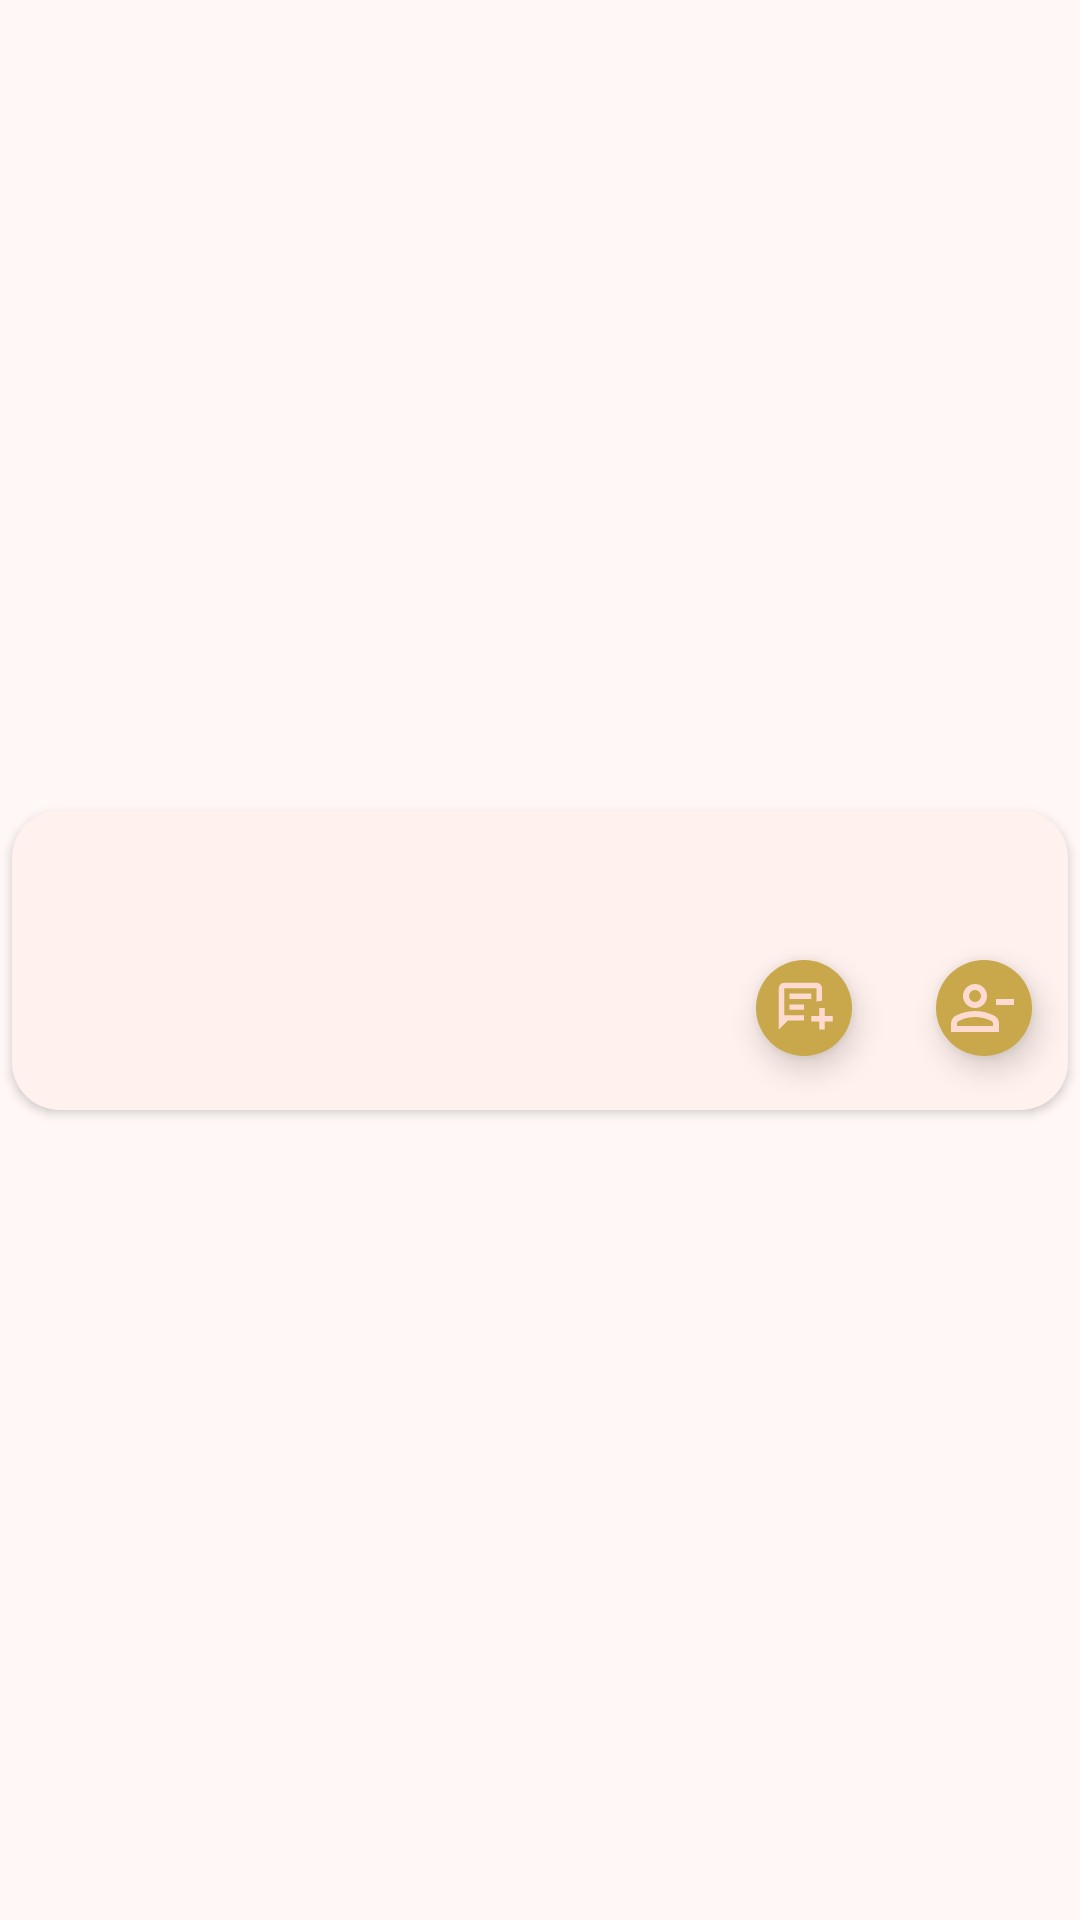

Point at icon controls on the screen. Image size 1080*1920, points as (x,y).
message: (805,1011)
remove friend: (985,1011)
